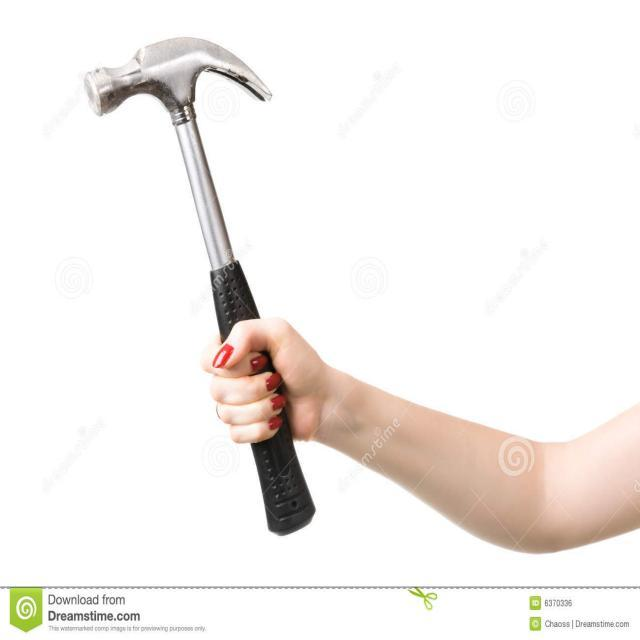hammer: (76, 33, 324, 547)
